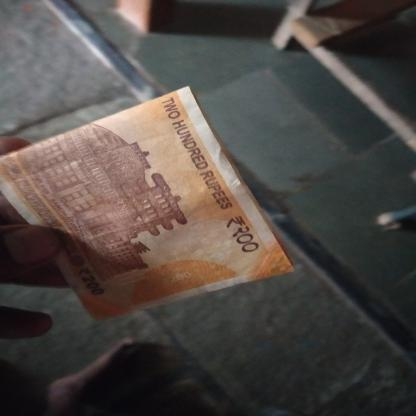New200Back: (2, 91, 259, 297)
